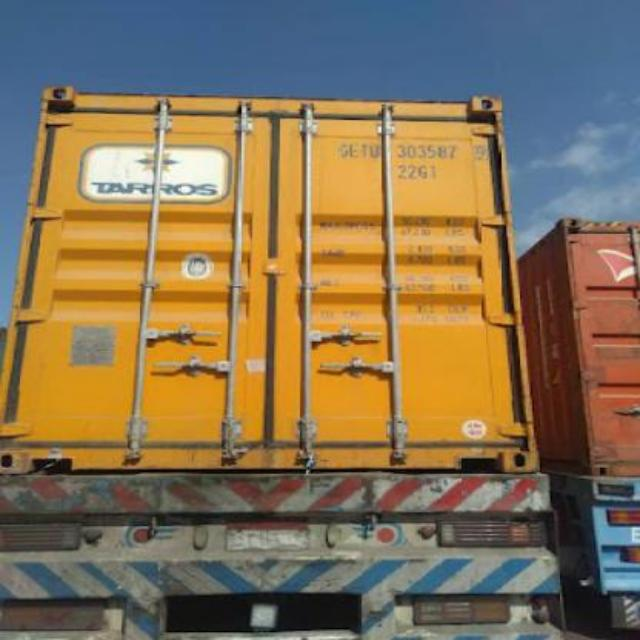0: (406, 139, 416, 159)
3: (414, 140, 428, 162), (394, 138, 406, 158)
5: (426, 138, 436, 164)
7: (446, 136, 458, 164)
8: (434, 140, 448, 167)
9: (472, 140, 490, 162)
E: (348, 136, 358, 160)
G: (336, 138, 348, 160)
T: (358, 134, 368, 164)
U: (368, 137, 380, 167)
